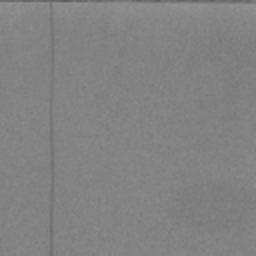Scratches: (48, 1, 55, 256)
